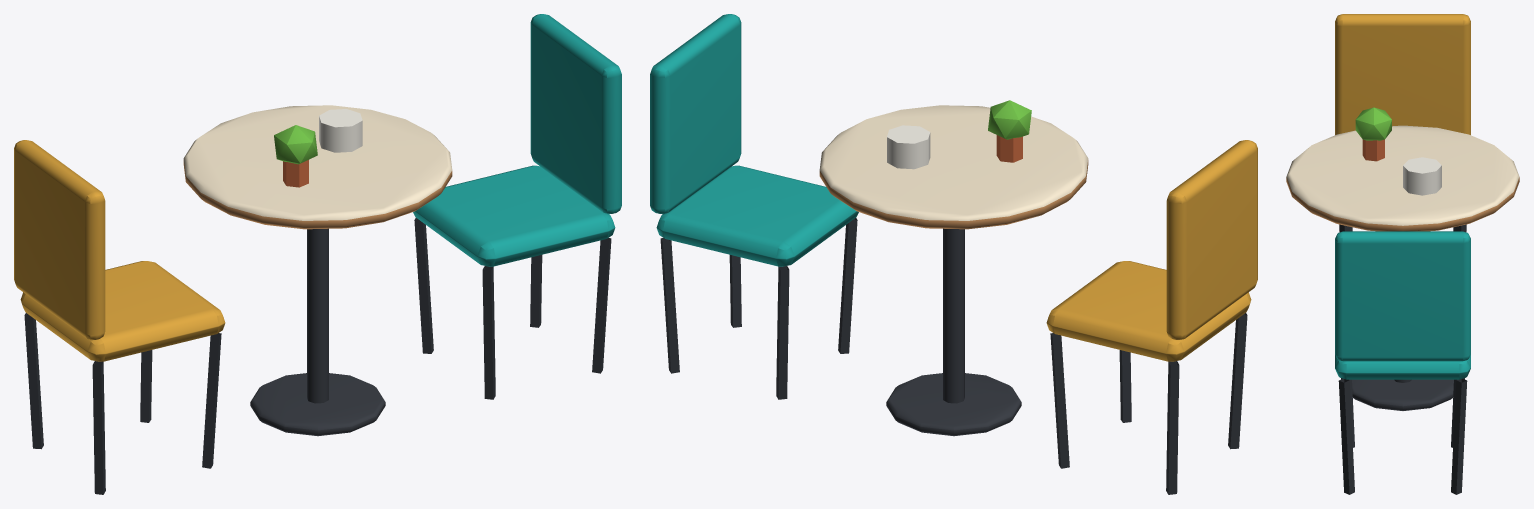
File: MesaCafe.fbx
3 renders of one model, left to right at view 1: azimuth 30°, elevation 25°; view 2: azimuth 150°, elevation 25°; view 3: azimuth 270°, elevation 25°, orthographic. The views are drawn at different scales.
Visible parts, largest first — view 1: MesaCafe; view 2: MesaCafe; view 3: MesaCafe.
Boxes of the visible parts, x1,y1,x2,y2 form: MesaCafe: (14, 14, 621, 494); MesaCafe: (650, 14, 1257, 494); MesaCafe: (1286, 14, 1519, 494).
Bounding box in the file's own units: 5.5 × 3 × 2.4.
Materials: 1 (1 with a texture image).
